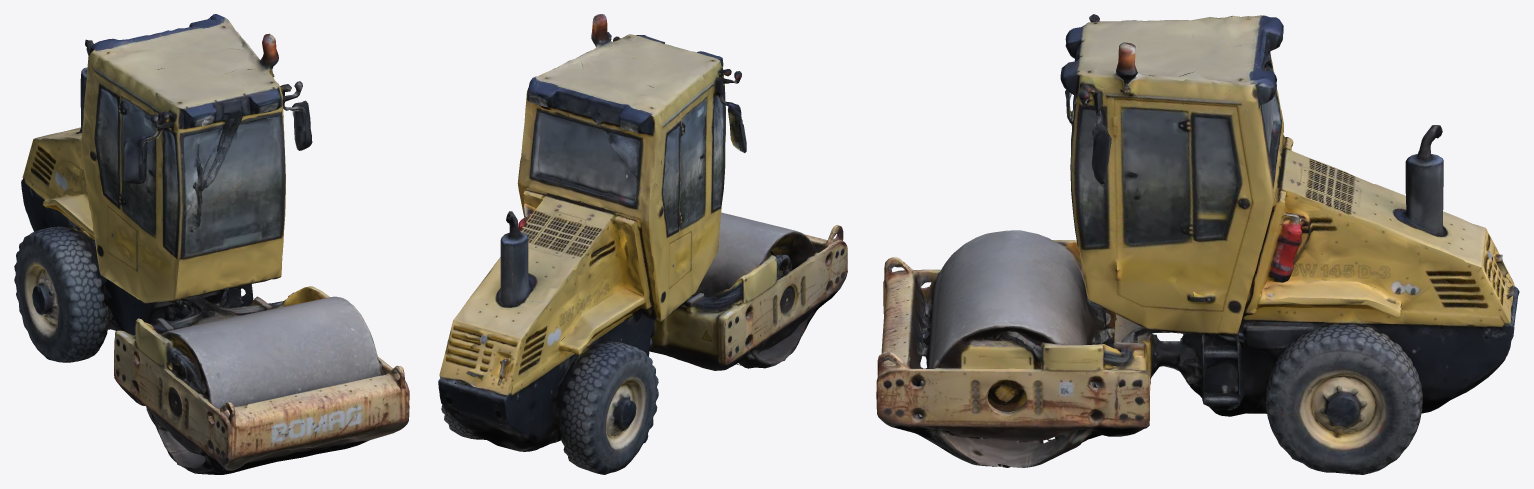
Rendered from road-roller.glb.
3 renders of one model, left to right at view 1: azimuth 30°, elevation 25°; view 2: azimuth 150°, elevation 25°; view 3: azimuth 270°, elevation 25°, orthographic. The views are drawn at different scales.
Parts seen in each view (by area): view 1: Object_2; view 2: Object_2; view 3: Object_2.
Boxes of the visible parts, x1,y1,x2,y2 form: Object_2: (14,14,409,474); Object_2: (438,14,847,474); Object_2: (876,14,1519,474).
Size of the model in its own units: 4.39 by 8.09 by 11.39.
1 material, 1 textured.
